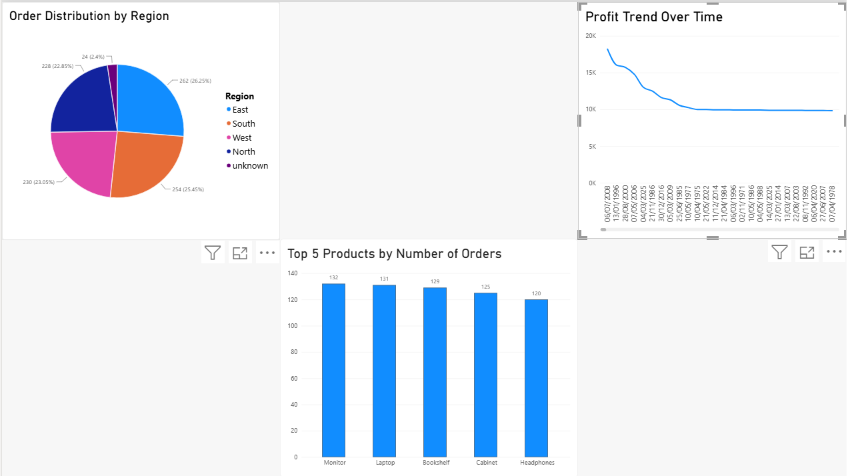

The page's visual inventory and layout, read from the dashboard file:
{"tool":"powerbi","page":{"name":"Page 1","canvas":[1920,1080],"ordinal":0},"visuals":[{"type":"pieChart","title":"Order Distribution by Region","fields":{"Category":["SalesData.Region"],"Y":["CountNonNull(SalesData.OrderID)"]},"box":[0,0,631.4,540.6],"z":0},{"type":"clusteredColumnChart","title":"Top 5 Products by Number of Orders","fields":{"Category":["SalesData.Product"],"Y":["CountNonNull(SalesData.OrderID)"]},"box":[631.4,538.3,676.8,540.6],"z":1},{"type":"lineChart","title":"Profit Trend Over Time","fields":{"Category":["SalesData.OrderDate"],"Y":["Sum(SalesData.Profit_New)"]},"box":[1308.3,0,611,538.3],"z":2}]}

Visuals, with their boxes in screenshot pixels (x1, y1, x2, y2), scaled from the page's 1920x1080 canvas onto the 847x476 screenshot:
"Order Distribution by Region" pieChart: Rect(0, 0, 279, 238)
"Top 5 Products by Number of Orders" clusteredColumnChart: Rect(279, 237, 577, 475)
"Profit Trend Over Time" lineChart: Rect(577, 0, 846, 237)
